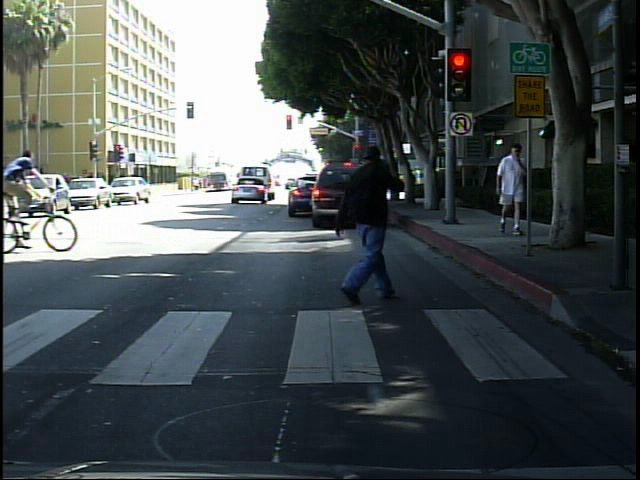person: (321, 129, 410, 317), (5, 138, 66, 244), (493, 141, 532, 238), (559, 138, 594, 245)
